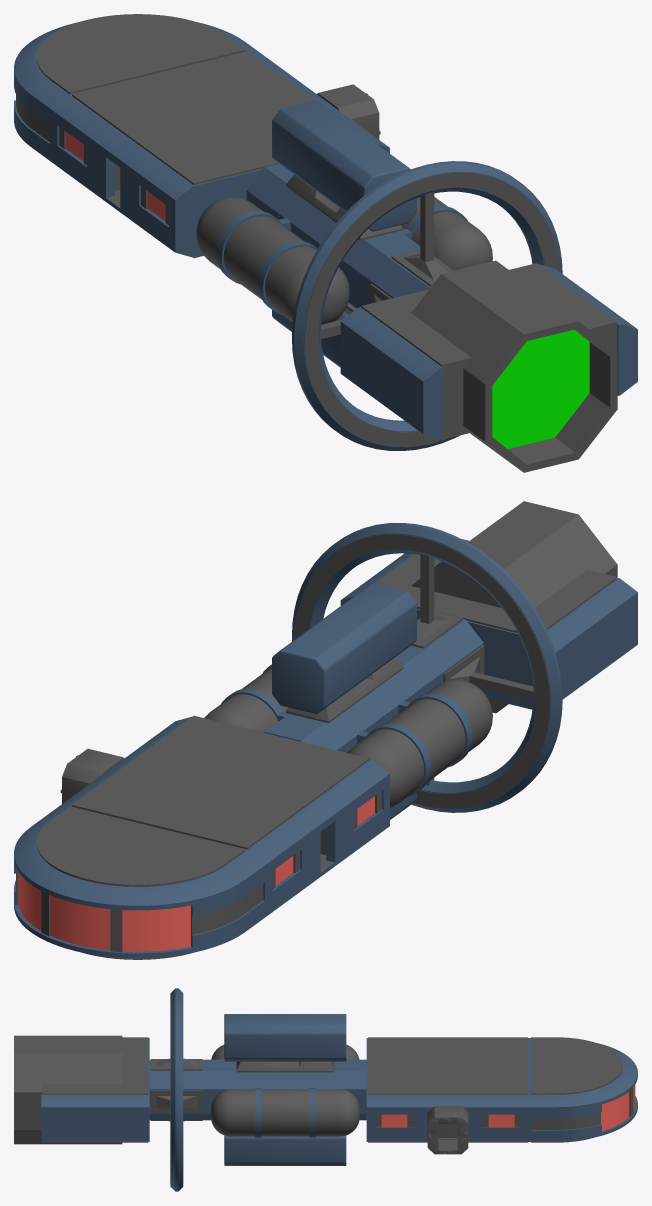
File: RoundShip.glb
The picture shows the model from 3 angles, top to bottom: view 1: azimuth 30°, elevation 25°; view 2: azimuth 150°, elevation 25°; view 3: azimuth 270°, elevation 25°; orthographic projection. The views are drawn at different scales.
Parts seen in each view (by area): view 1: Engine, Body_Outside, Warp_Ring, Bridge_Outside, Fuel_Tank.001, Cargo_Mount, Hallway, Docking_Port; view 2: Body_Outside, Bridge_Outside, Engine, Warp_Ring, Cargo_Mount, Fuel_Tank.001, Hallway, Docking_Port, Body_Inside; view 3: Body_Outside, Engine, Cargo_Mount, Bridge_Outside, Fuel_Tank.001, Warp_Ring, Hallway, Docking_Port, Door.
Part boxes in pixels (x1,y1,x2,y2): Engine: [340, 260, 637, 472]; Body_Outside: [51, 51, 389, 258]; Warp_Ring: [292, 161, 562, 450]; Bridge_Outside: [14, 14, 265, 161]; Fuel_Tank.001: [196, 197, 492, 324]; Cargo_Mount: [272, 100, 416, 367]; Hallway: [246, 163, 420, 308]; Docking_Port: [317, 84, 380, 139]; Body_Outside: [52, 715, 389, 916]; Bridge_Outside: [14, 806, 265, 959]; Engine: [340, 501, 637, 713]; Warp_Ring: [292, 523, 562, 812]; Cargo_Mount: [272, 583, 416, 819]; Fuel_Tank.001: [204, 664, 492, 808]; Hallway: [264, 646, 442, 752]; Docking_Port: [60, 748, 124, 803]; Body_Inside: [320, 821, 335, 872]; Body_Outside: [366, 1037, 529, 1142]; Engine: [14, 1035, 149, 1144]; Cargo_Mount: [224, 1014, 346, 1165]; Bridge_Outside: [529, 1037, 637, 1142]; Fuel_Tank.001: [210, 1044, 359, 1137]; Warp_Ring: [149, 988, 203, 1191]; Hallway: [204, 1059, 366, 1120]; Docking_Port: [427, 1106, 468, 1154]; Door: [438, 1123, 457, 1138].
Bounding box in the file's own units: 15.63 × 15 × 46.01.
